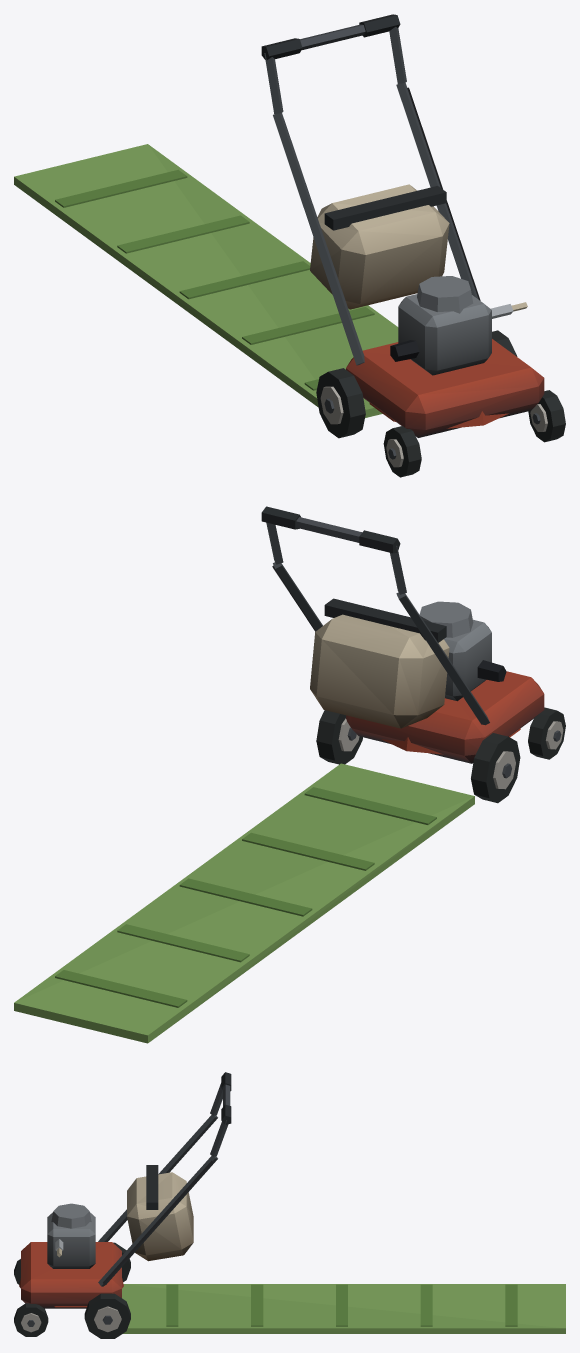
File: lawn-mower.glb
3 renders of one model, top to bottom at view 1: azimuth 30°, elevation 25°; view 2: azimuth 150°, elevation 25°; view 3: azimuth 270°, elevation 25°, orthographic. The views are drawn at different scales.
Visible parts, largest first — view 1: lawn_mower; view 2: lawn_mower; view 3: lawn_mower.
Boxes of the visible parts, bbox=[...] form: lawn_mower: bbox=[14, 14, 565, 477]; lawn_mower: bbox=[14, 506, 565, 1043]; lawn_mower: bbox=[14, 1072, 565, 1338].
Size of the model in its own units: 0.7 by 1.19 by 2.74.
